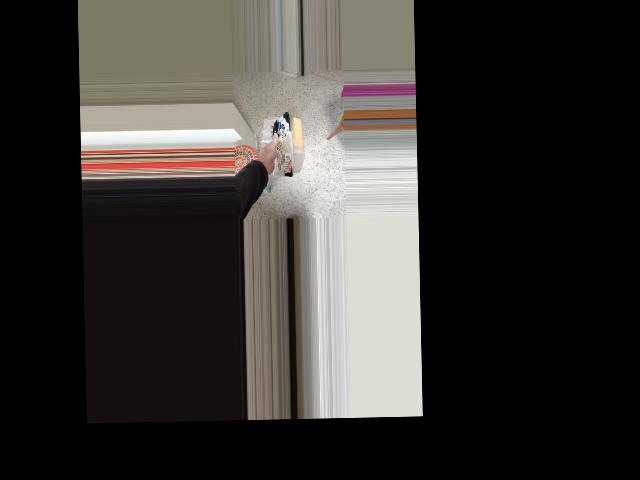cheese: (256, 108, 321, 185)
